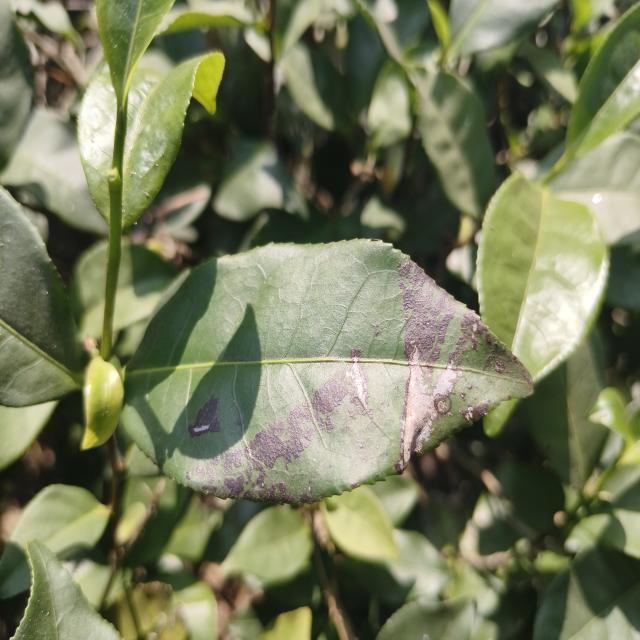Leaf: (123, 240, 533, 504), (477, 174, 609, 382), (0, 187, 84, 407), (121, 52, 224, 229), (0, 108, 108, 236), (523, 334, 609, 492), (409, 68, 495, 219), (0, 484, 109, 598), (565, 2, 640, 159), (13, 540, 120, 640), (548, 131, 640, 244), (533, 548, 640, 640), (342, 529, 452, 607), (96, 0, 174, 107), (212, 139, 308, 221), (279, 40, 358, 139), (222, 506, 312, 588), (113, 236, 177, 332), (320, 486, 399, 561), (449, 0, 556, 55), (0, 0, 33, 169), (79, 74, 116, 219), (496, 461, 564, 533), (81, 356, 124, 450), (376, 601, 475, 640), (367, 63, 412, 148), (70, 240, 107, 339), (156, 0, 258, 35), (588, 387, 634, 441)
